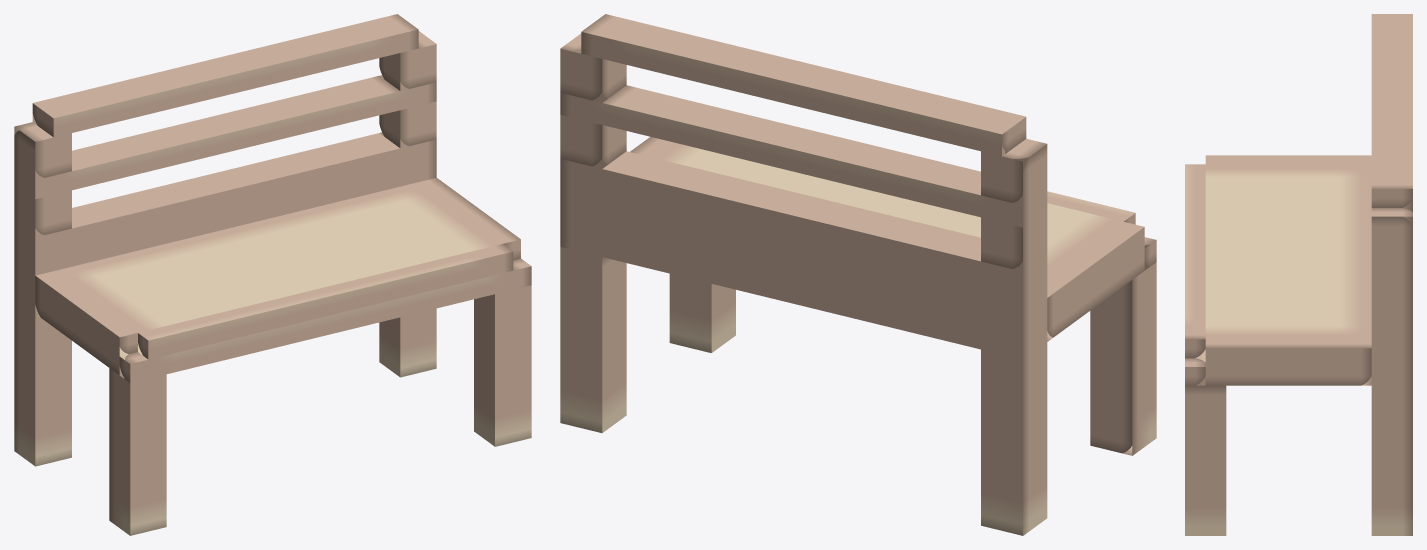
Rendered from laweczka.dae.
3 renders of one model, left to right at view 1: azimuth 30°, elevation 25°; view 2: azimuth 150°, elevation 25°; view 3: azimuth 270°, elevation 25°, orthographic. The views are drawn at different scales.
Parts seen in each view (by area): view 1: laweczka; view 2: laweczka; view 3: laweczka.
Boxes of the visible parts, bbox=[...] form: laweczka: bbox=[14, 14, 531, 535]; laweczka: bbox=[560, 14, 1156, 535]; laweczka: bbox=[1185, 14, 1412, 535].
Bounding box in the file's own units: 22 × 18 × 11.
Materials: 1 (1 with a texture image).
